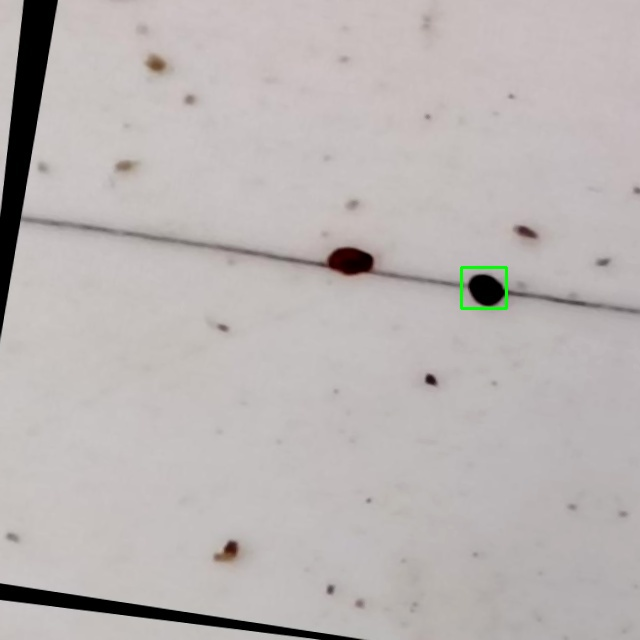varroa: (461, 267, 506, 308)
